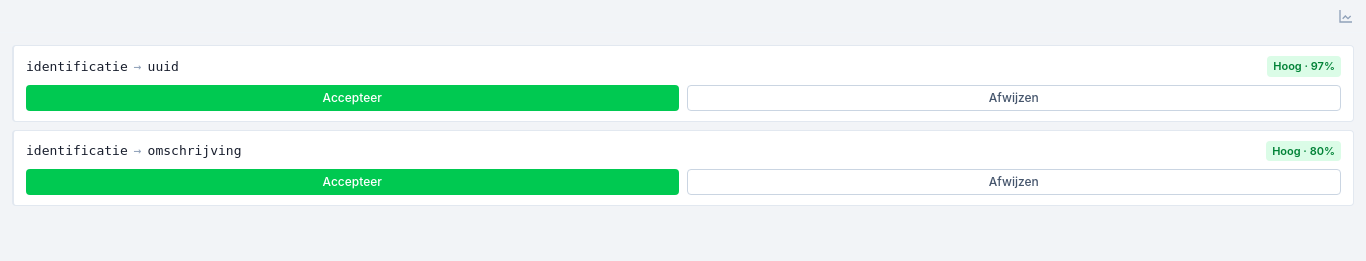
Test: AISuggestionPanel › acceptance rate dialog › updates rate in dialog after rejecting a suggestion
Click the button with test id "stats-button" at (1346, 16), box [1334,4,1358,28]
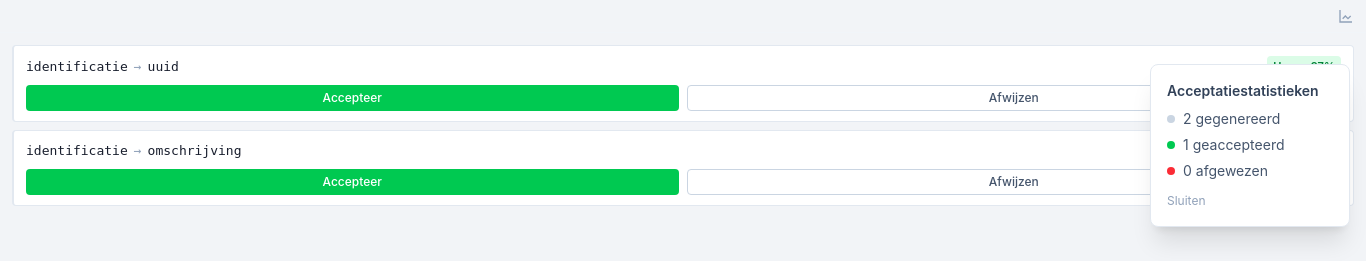
Click the button with test id "reject-button" below "Hoog · 97%" at (1014, 98), box [686,84,1341,110]
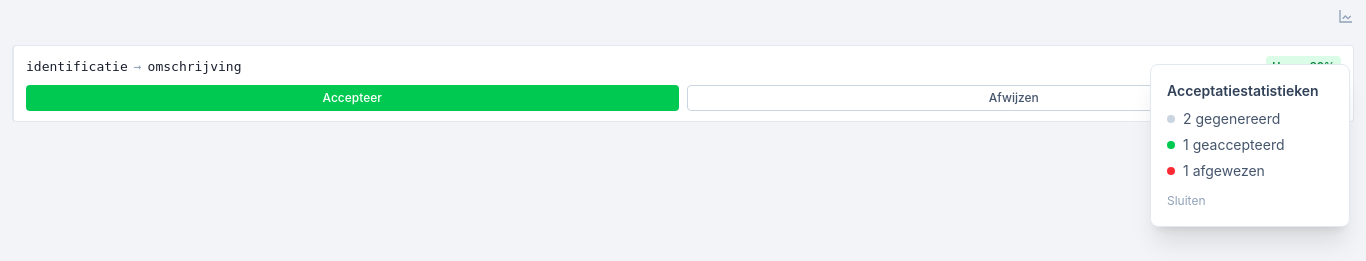
Expected: the element with test id "stats-dialog" shows "1 geaccepteerd", [1183,136,1284,153]
Expected: the element with test id "stats-dialog" shows "1 afgewezen", [1183,162,1265,179]
